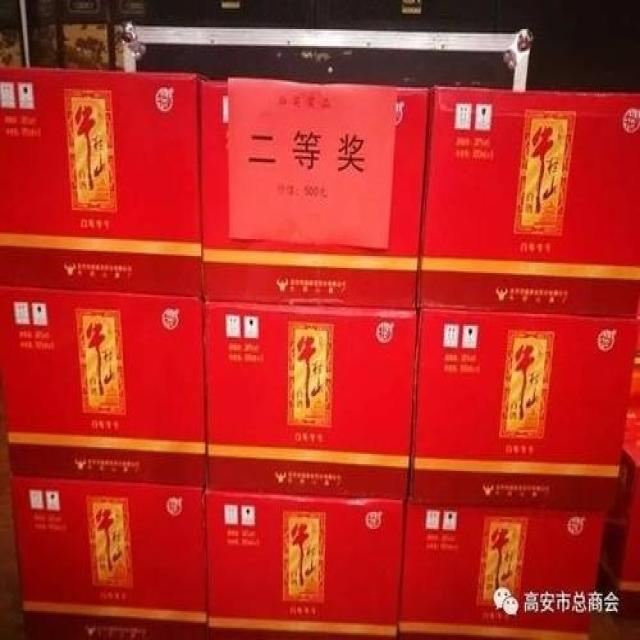box: (200, 76, 432, 310), (419, 86, 639, 320), (0, 68, 207, 299), (408, 311, 639, 508), (204, 303, 417, 499), (0, 288, 204, 489), (12, 482, 206, 638), (204, 491, 406, 638), (396, 501, 608, 638)
